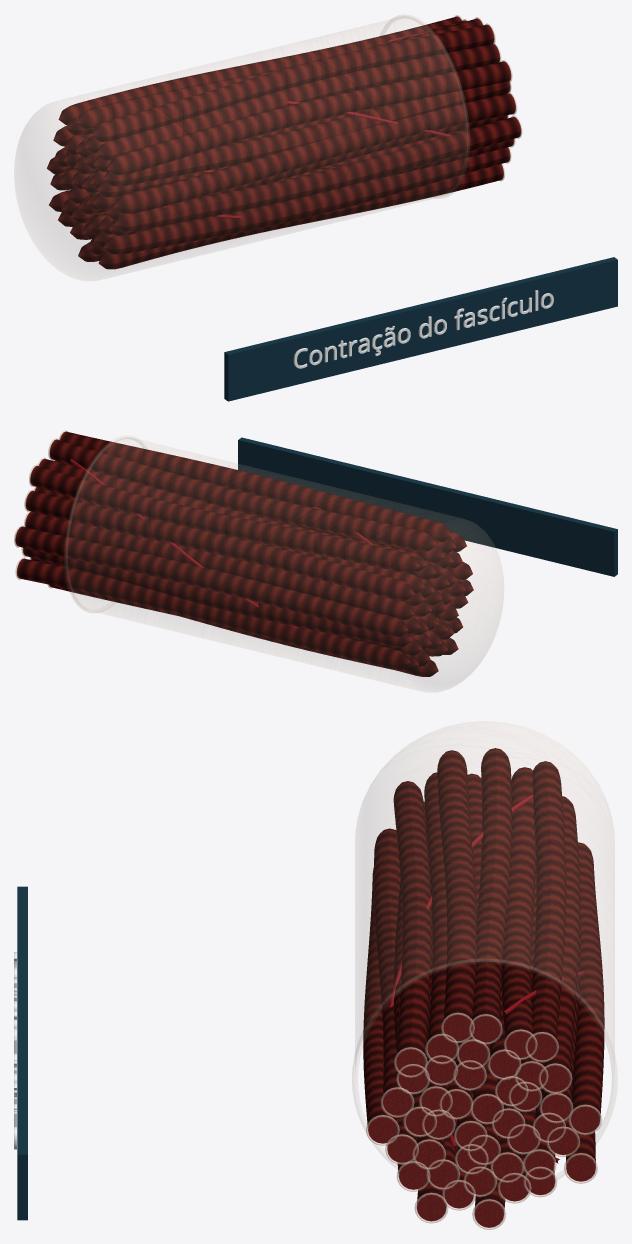
Rendered from nivel-2.glb.
The picture shows the model from 3 angles, top to bottom: view 1: azimuth 30°, elevation 25°; view 2: azimuth 150°, elevation 25°; view 3: azimuth 270°, elevation 25°; orthographic projection. The views are drawn at different scales.
Parts seen in each view (by area): view 1: movel_45, movel_47, placa_solida, movel_49, texto_em_relevo, movel_48, movel_50; view 2: movel_45, movel_47, placa_solida, movel_49, movel_48, movel_50; view 3: movel_45, movel_47, movel_46, placa_solida, movel_48, movel_50.
Boxes of the visible parts, x1,y1,x2,y2 form: movel_45: (47, 16, 521, 269); movel_47: (63, 17, 466, 278); placa_solida: (224, 257, 617, 401); movel_49: (14, 101, 123, 280); texto_em_relevo: (293, 290, 553, 368); movel_48: (393, 15, 469, 198); movel_50: (161, 31, 450, 218); movel_45: (15, 431, 473, 676); movel_47: (67, 437, 457, 689); placa_solida: (238, 437, 617, 576); movel_49: (399, 519, 503, 691); movel_48: (64, 435, 138, 612); movel_50: (70, 459, 374, 628); movel_45: (363, 748, 604, 1213); movel_47: (355, 725, 614, 1052); movel_46: (368, 1015, 599, 1227); placa_solida: (17, 886, 27, 1220); movel_48: (352, 959, 617, 1179); movel_50: (383, 794, 584, 1163).
Bounding box in the file's own units: 0.55 × 0.2016 × 0.4574.
7 materials, 3 textured.
